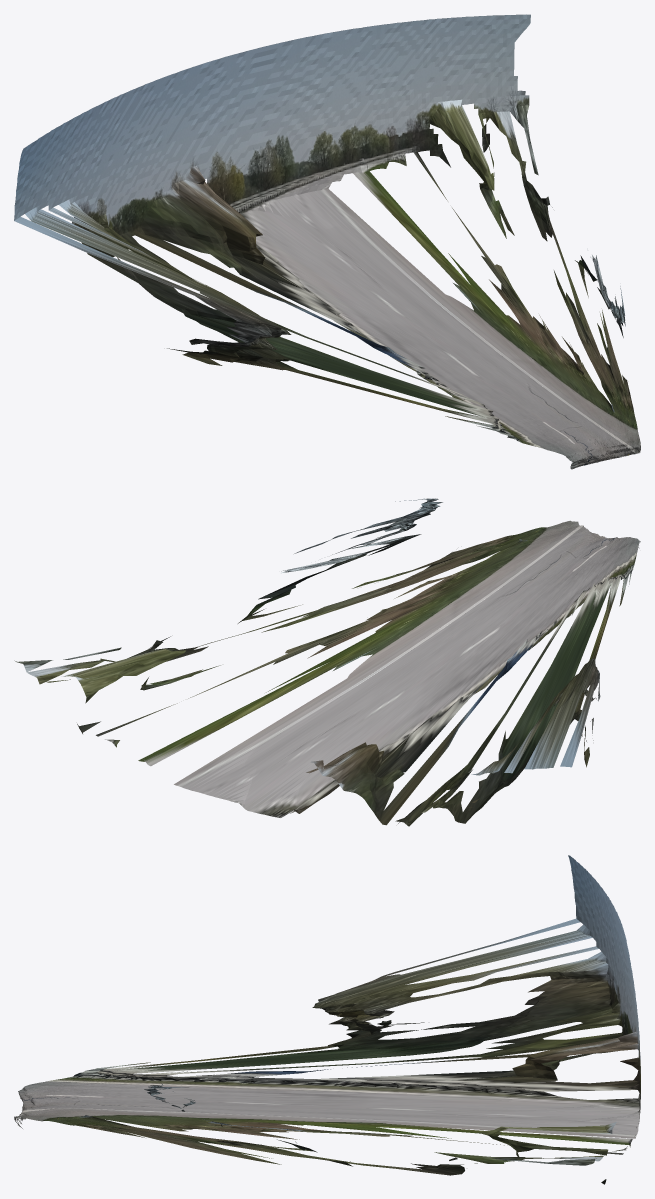
3 renders of one model, top to bottom at view 1: azimuth 30°, elevation 25°; view 2: azimuth 150°, elevation 25°; view 3: azimuth 270°, elevation 25°, orthographic. The views are drawn at different scales.
Parts seen in each view (by area): view 1: defaultobject; view 2: defaultobject; view 3: defaultobject.
Part boxes in pixels (left/top/right/bottom): defaultobject: left=14, top=14, right=640, bottom=469; defaultobject: left=14, top=498, right=640, bottom=826; defaultobject: left=14, top=855, right=640, bottom=1184.
Size of the model in its own units: 38.41 by 12.03 by 44.59.
Materials: 1 (1 with a texture image).
